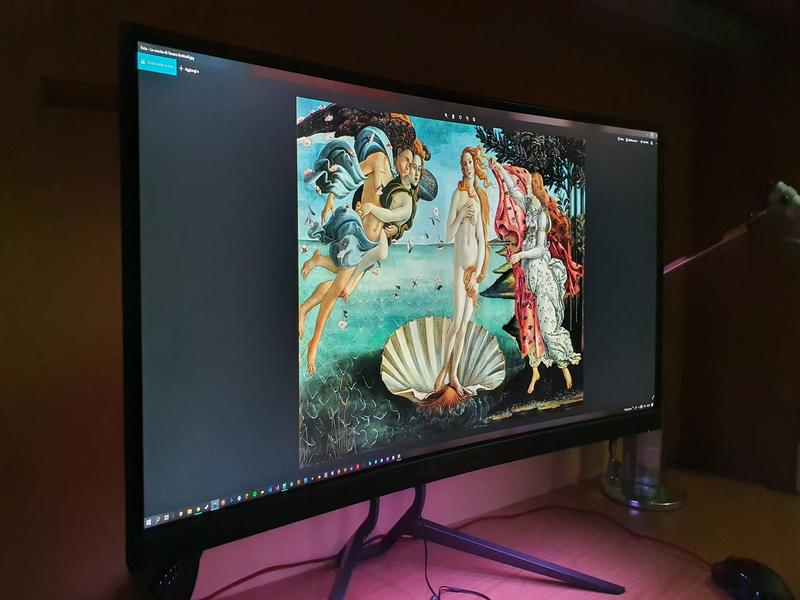Venere: (293, 95, 588, 464)
